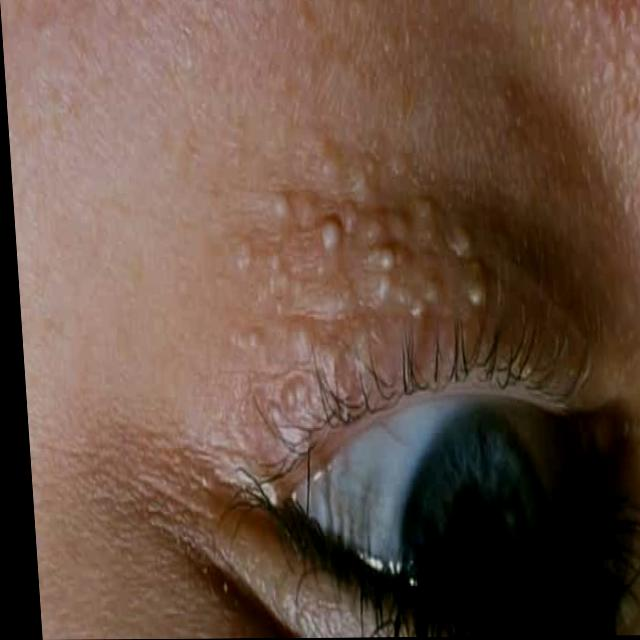7: (222, 237, 291, 319), (312, 204, 350, 266), (364, 243, 397, 295), (222, 327, 268, 362), (266, 377, 308, 413), (453, 276, 489, 308)
blackheads: (307, 128, 383, 202), (279, 317, 383, 368), (402, 187, 445, 255)
